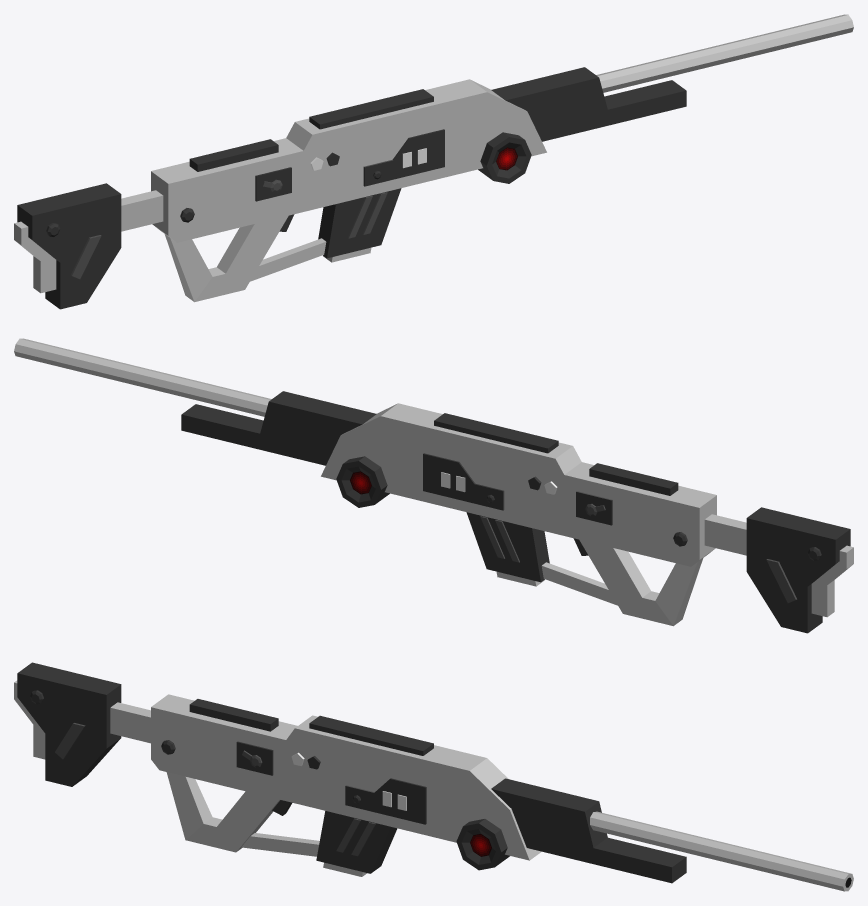
File: Rifle_Sniper_B_V4.FBX
3 renders of one model, top to bottom at view 1: azimuth 30°, elevation 25°; view 2: azimuth 150°, elevation 25°; view 3: azimuth 330°, elevation 25°, orthographic.
Visible parts, largest first — view 1: Rifle_Sniper_B_V4; view 2: Rifle_Sniper_B_V4; view 3: Rifle_Sniper_B_V4.
Boxes of the visible parts, box(x1,y1,x2,y2) form: Rifle_Sniper_B_V4: box(14, 14, 853, 309); Rifle_Sniper_B_V4: box(14, 338, 853, 633); Rifle_Sniper_B_V4: box(14, 662, 853, 891).
Size of the model in its own units: 522 by 88.73 by 33.03.
